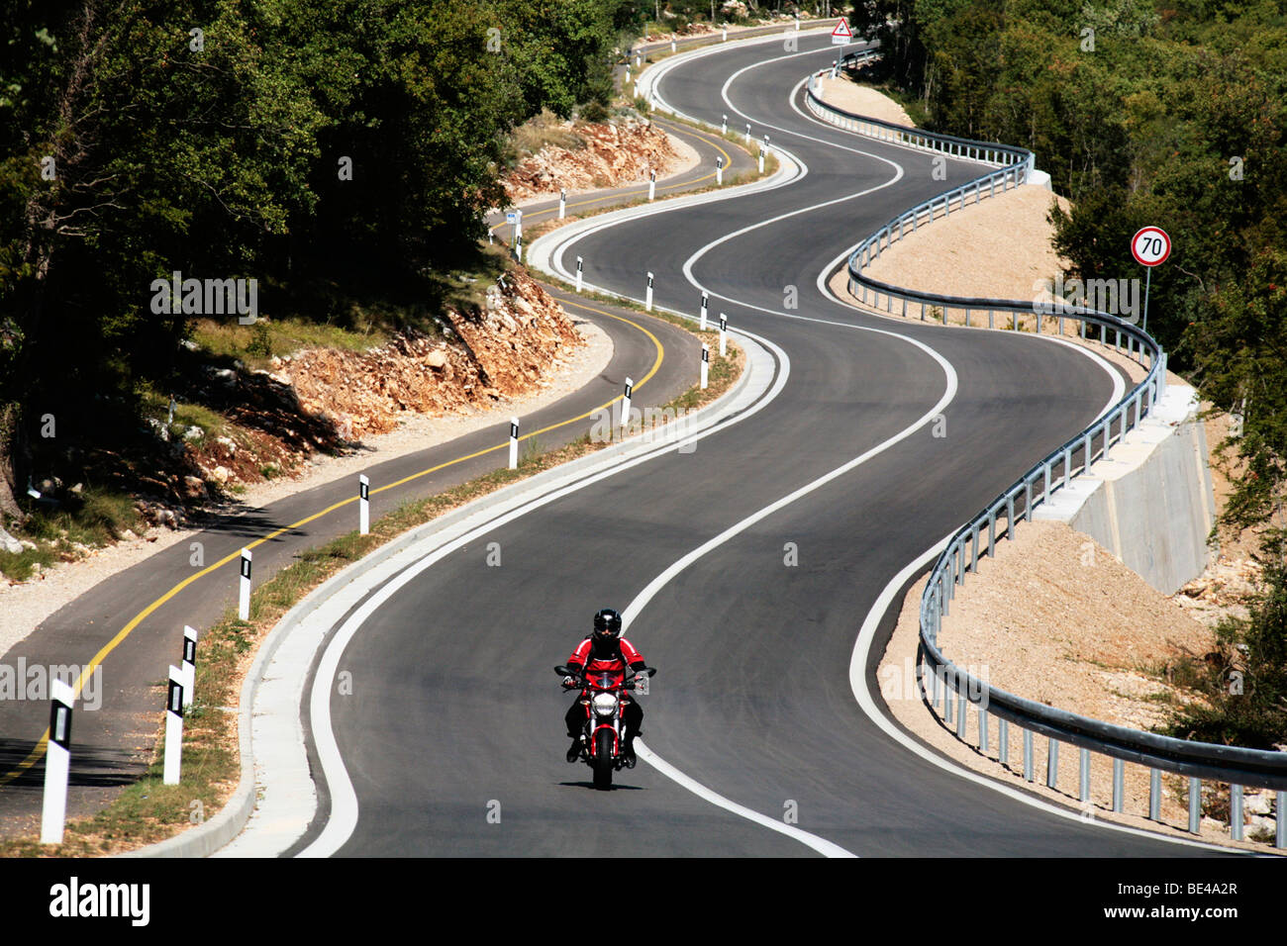Motorcycle: (556, 652, 654, 787)
